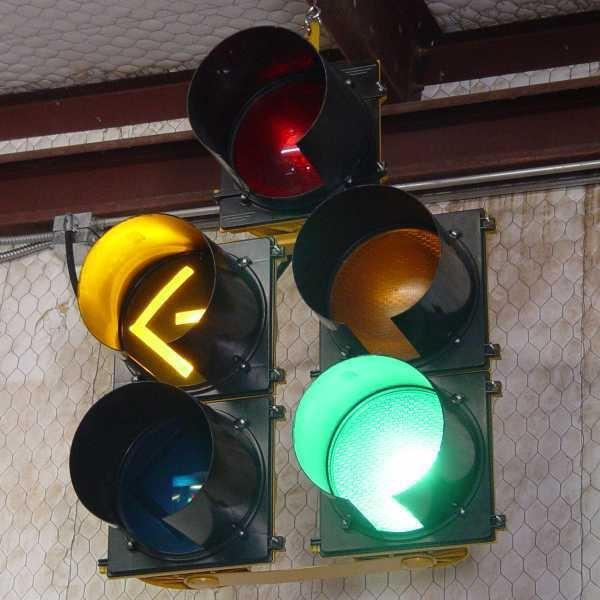red: (181, 21, 377, 211)
